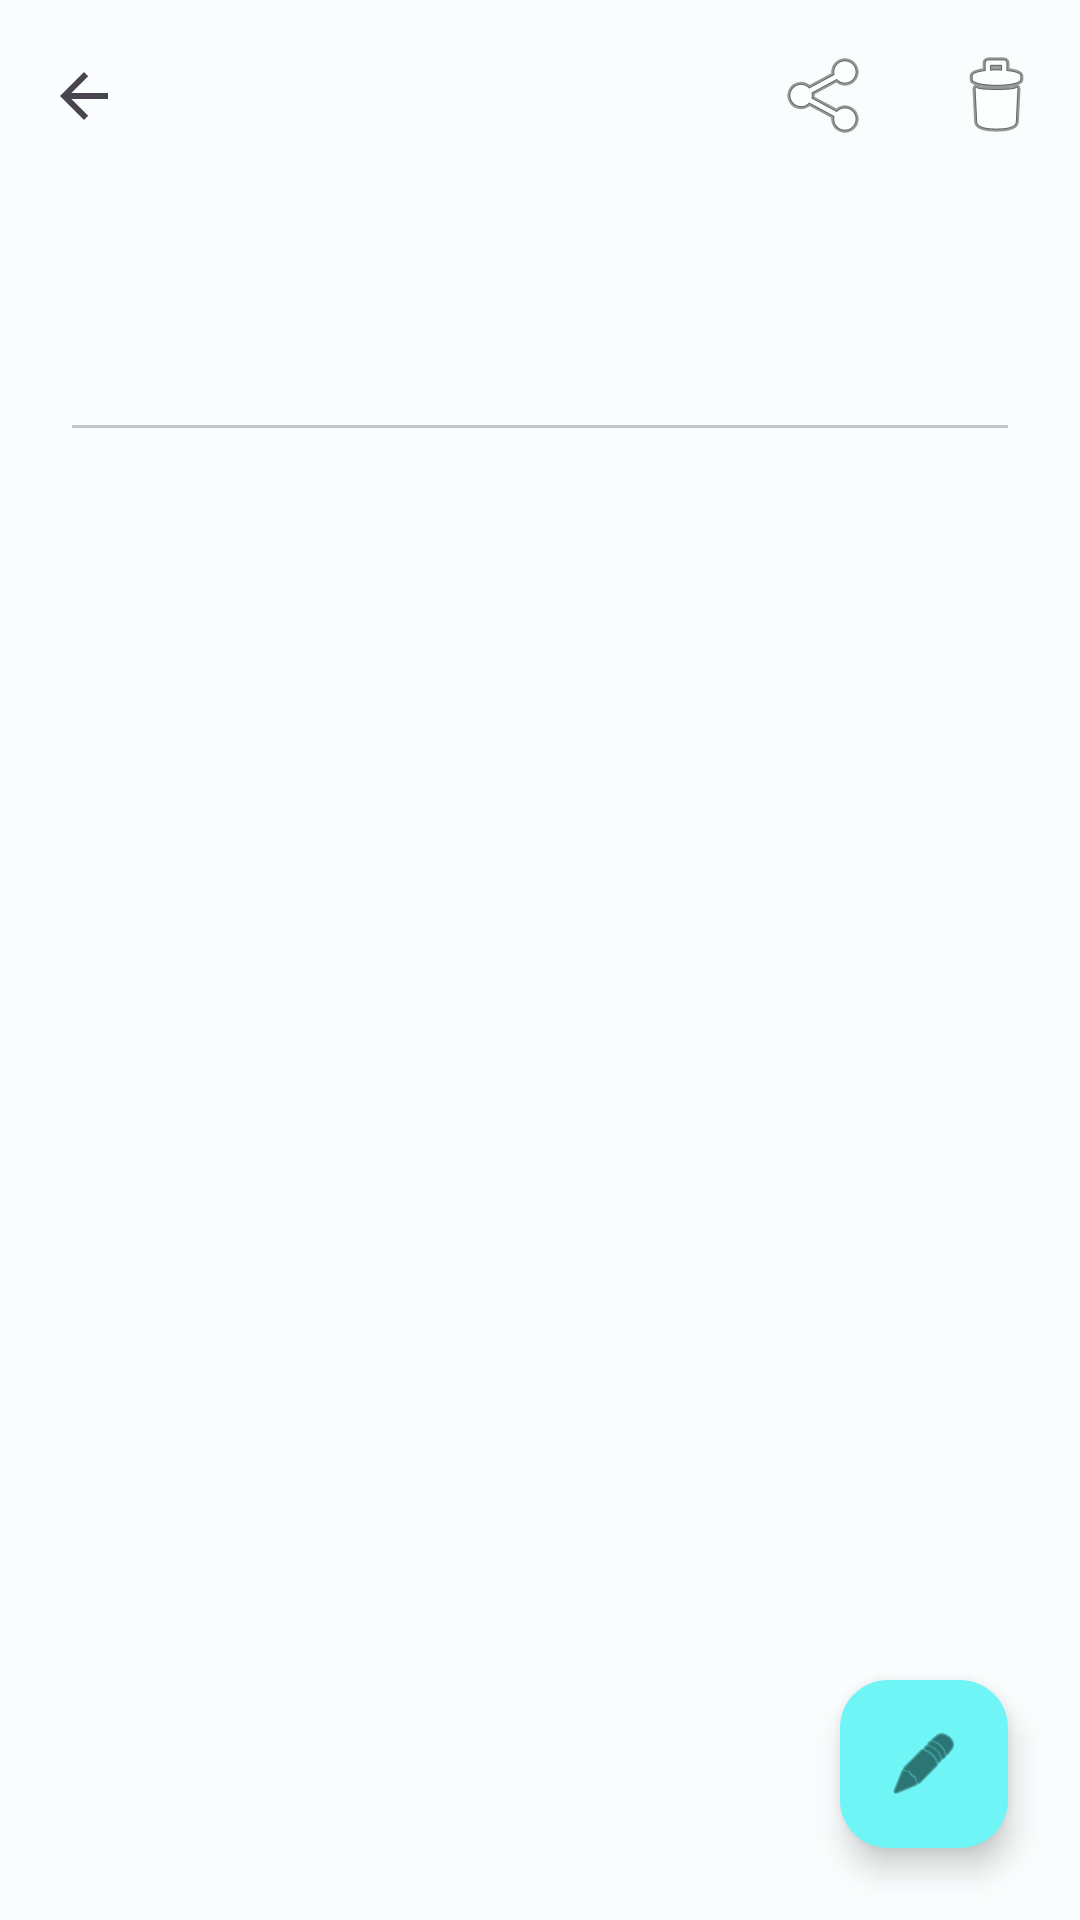

Locate icon controls on the screen. Image size 1080w x 1920h, boxes as bbox=(x1, y1, x2, y2).
Edit Note: bbox=(840, 1680, 1008, 1848)
